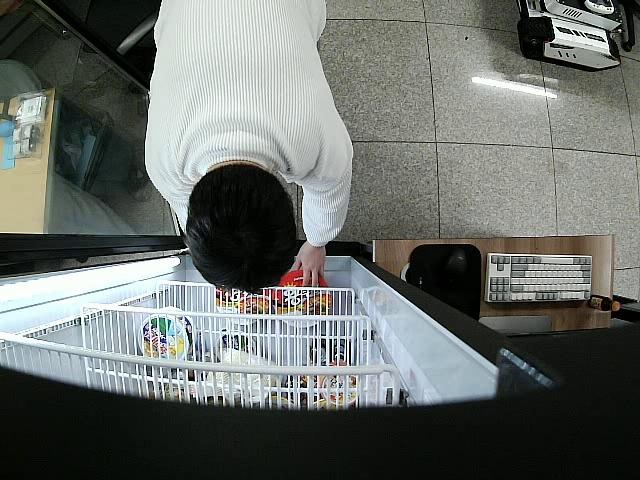00_hand: (293, 246, 327, 287)
10_wangTtukkeong: (275, 270, 333, 327), (213, 288, 271, 325)
